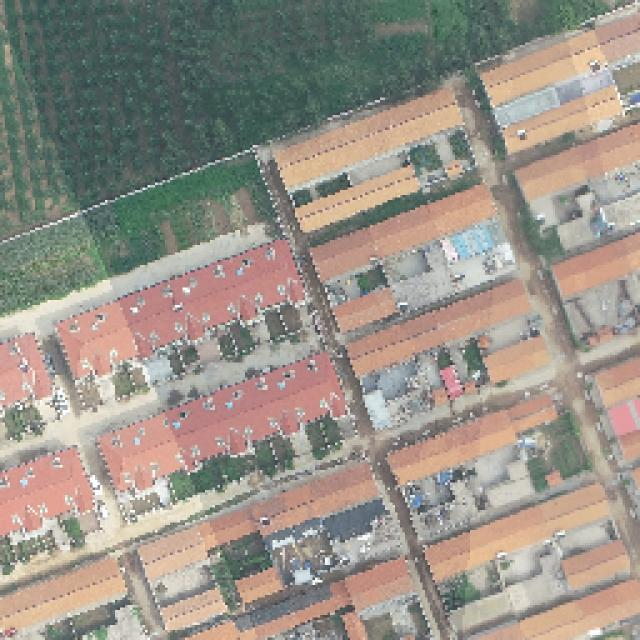Batiment: (58, 241, 302, 378), (101, 356, 343, 491), (185, 559, 413, 639), (277, 90, 461, 187), (312, 185, 494, 281), (426, 486, 607, 581), (349, 281, 529, 376), (349, 282, 528, 376), (483, 14, 640, 106), (389, 398, 554, 484), (472, 582, 640, 639), (518, 123, 640, 201), (252, 466, 377, 536), (1, 561, 124, 631), (0, 448, 92, 534), (142, 511, 254, 581), (506, 86, 621, 153), (297, 169, 416, 232), (556, 233, 640, 297), (557, 234, 640, 297), (139, 526, 208, 581), (0, 334, 51, 407), (345, 558, 414, 609), (561, 540, 629, 588), (332, 288, 399, 332), (487, 338, 548, 382), (590, 356, 640, 408), (162, 591, 223, 631), (619, 430, 640, 459)
